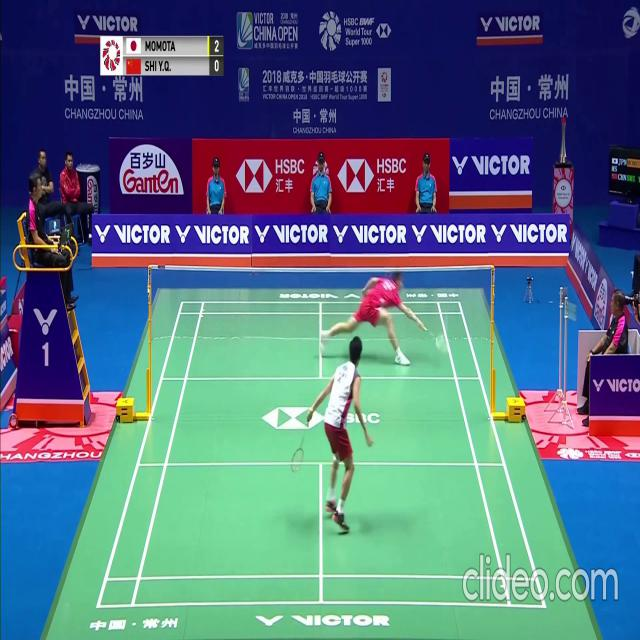Shuttlecock: (444, 306, 448, 314)
